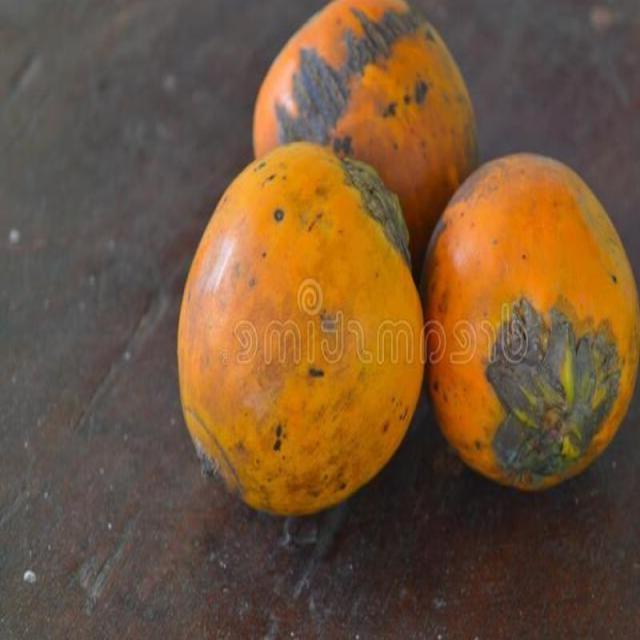good: (176, 141, 426, 521), (419, 153, 639, 496), (252, 0, 482, 292)
